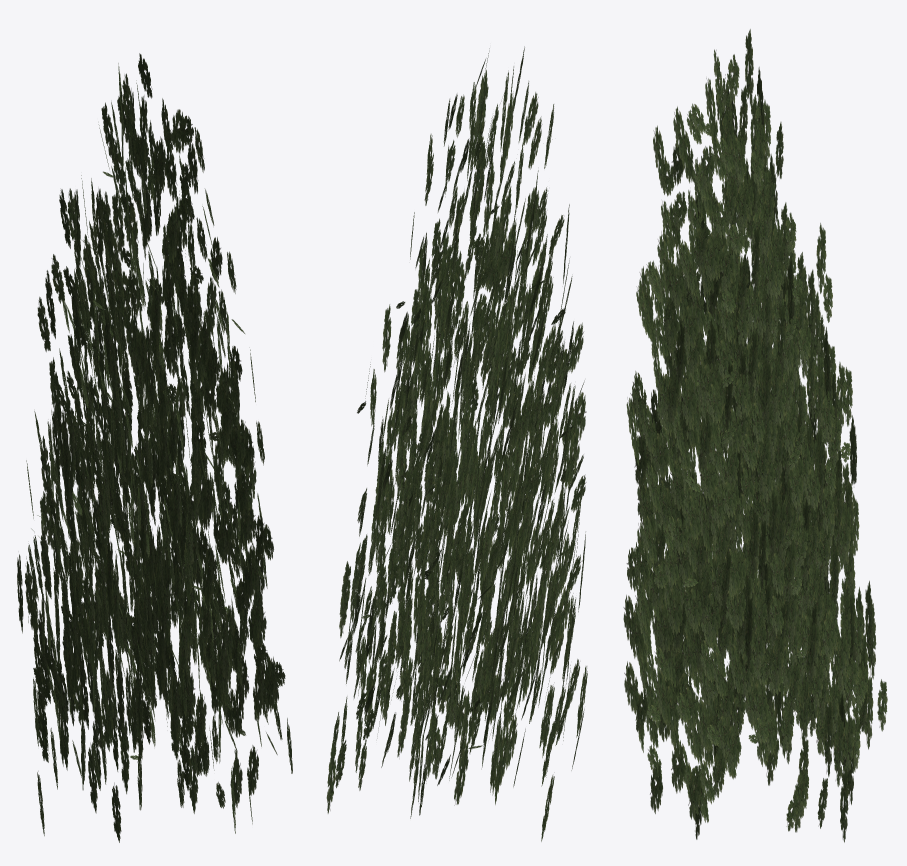
File: pine.glb
The picture shows the model from 3 angles, left to right: view 1: azimuth 30°, elevation 25°; view 2: azimuth 150°, elevation 25°; view 3: azimuth 270°, elevation 25°; orthographic projection. The views are drawn at different scales.
Parts seen in each view (by area): view 1: Icosphere.003; view 2: Icosphere.003; view 3: Icosphere.003.
Part boxes in pixels (x1=…): Icosphere.003: x1=17, y1=53, x2=292, y2=842; Icosphere.003: x1=326, y1=46, x2=587, y2=841; Icosphere.003: x1=623, y1=29, x2=887, y2=842.
Size of the model in its own units: 1.2 by 4 by 1.24.
Materials: 1 (1 with a texture image).
